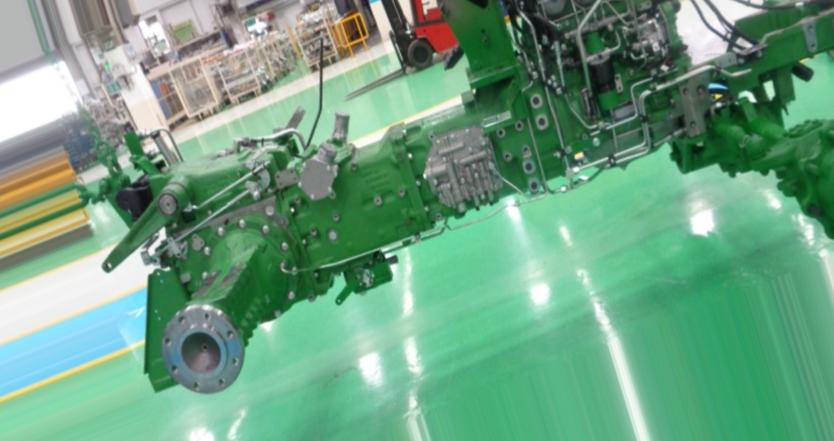engine: (98, 0, 834, 394)
